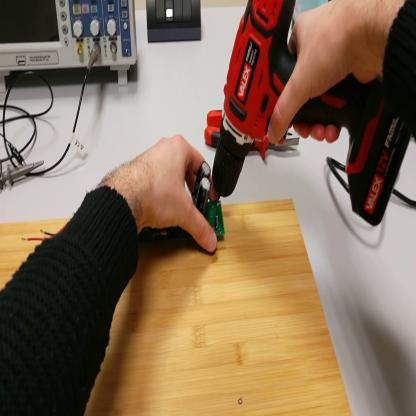electric screwdriver: (212, 1, 411, 229)
hand: (269, 4, 392, 142), (132, 134, 220, 253)
high voltage board: (21, 163, 225, 245)
oscilloscope: (1, 2, 139, 97)
oscilloscope probe tip: (2, 154, 44, 191)
pliers: (204, 113, 301, 153)
working area: (1, 201, 351, 416)
